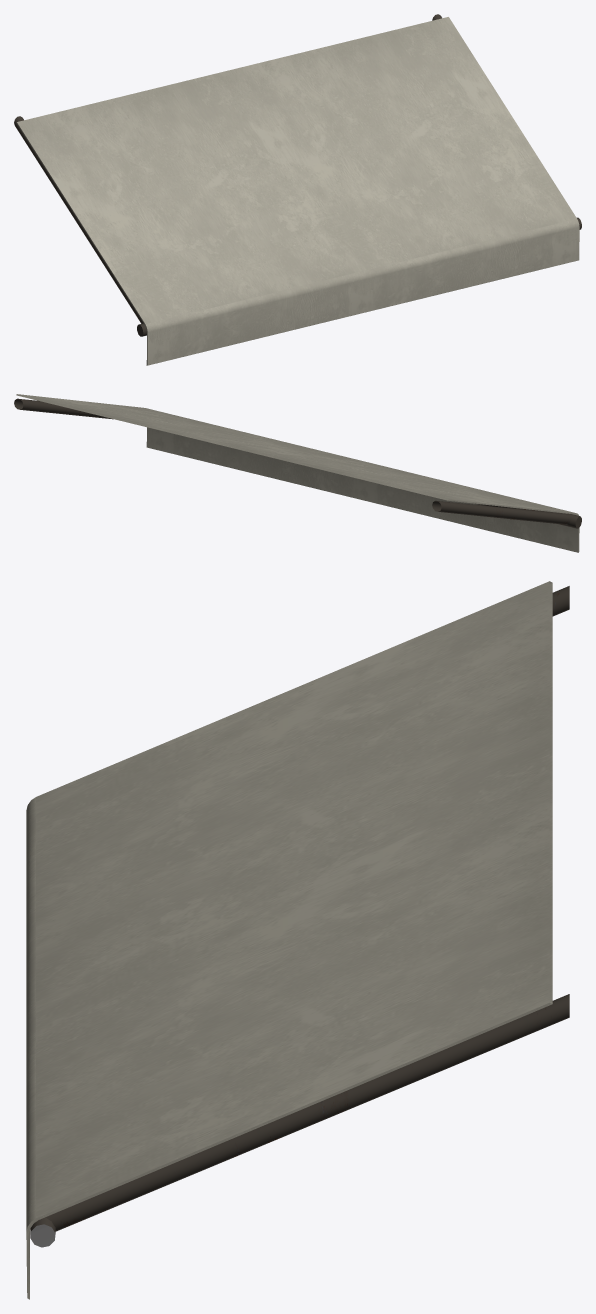
Rendered from Prop_Awning.gltf.
3 renders of one model, top to bottom at view 1: azimuth 30°, elevation 25°; view 2: azimuth 150°, elevation 25°; view 3: azimuth 270°, elevation 25°, orthographic. The views are drawn at different scales.
Parts seen in each view (by area): view 1: Prop_Awning; view 2: Prop_Awning; view 3: Prop_Awning.
Part boxes in pixels (x1,y1,x2,y2): Prop_Awning: (14,14,581,365); Prop_Awning: (14,394,581,552); Prop_Awning: (26,581,569,1299).
Size of the model in its own units: 2.85 by 0.9245 by 1.53.
Materials: 2 (2 with a texture image).
